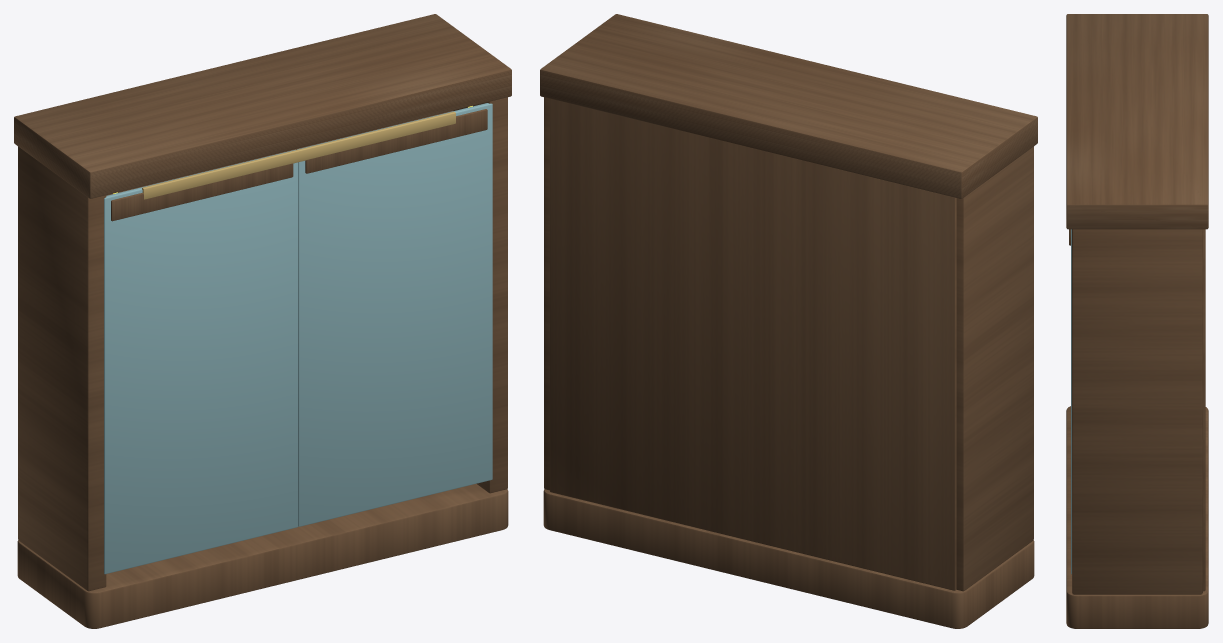
The model's file is golf_club_storage_country_club.glb.
3 renders of one model, left to right at view 1: azimuth 30°, elevation 25°; view 2: azimuth 150°, elevation 25°; view 3: azimuth 270°, elevation 25°, orthographic. The views are drawn at different scales.
Visible parts, largest first — view 1: ClubStorage_GlassDoor_R, ClubStorage_GlassDoor_L, ClubStorage_Top, ClubStorage_Side_-1, ClubStorage_Plinth, ClubStorage_Side_1, ClubStorage_BrassRail, ClubStorage_DoorFrame_L, ClubStorage_DoorFrame_R; view 2: ClubStorage_Back, ClubStorage_Top, ClubStorage_Side_-1, ClubStorage_Plinth, ClubStorage_Side_1; view 3: ClubStorage_Side_1, ClubStorage_Top, ClubStorage_Plinth, ClubStorage_Back, ClubStorage_GlassDoor_R.
Boxes of the visible parts, x1,y1,x2,y2 form: ClubStorage_GlassDoor_R: (297,103,492,526); ClubStorage_GlassDoor_L: (104,149,298,574); ClubStorage_Top: (14,14,511,198); ClubStorage_Side_-1: (18,146,106,591); ClubStorage_Plinth: (17,484,508,628); ClubStorage_Side_1: (453,97,507,493); ClubStorage_BrassRail: (142,111,455,199); ClubStorage_DoorFrame_L: (111,163,293,221); ClubStorage_DoorFrame_R: (305,109,487,173); ClubStorage_Back: (550,98,956,590); ClubStorage_Top: (540,14,1037,198); ClubStorage_Side_-1: (956,146,1033,591); ClubStorage_Plinth: (543,489,1034,628); ClubStorage_Side_1: (544,97,549,490); ClubStorage_Side_1: (1072,229,1202,594); ClubStorage_Top: (1066,14,1208,229); ClubStorage_Plinth: (1066,406,1208,628); ClubStorage_Back: (1203,229,1205,591); ClubStorage_GlassDoor_R: (1071,229,1071,574).
Size of what is drawn, in the model's own units: 2.1 by 2.18 by 0.66.
7 materials, 1 textured.
